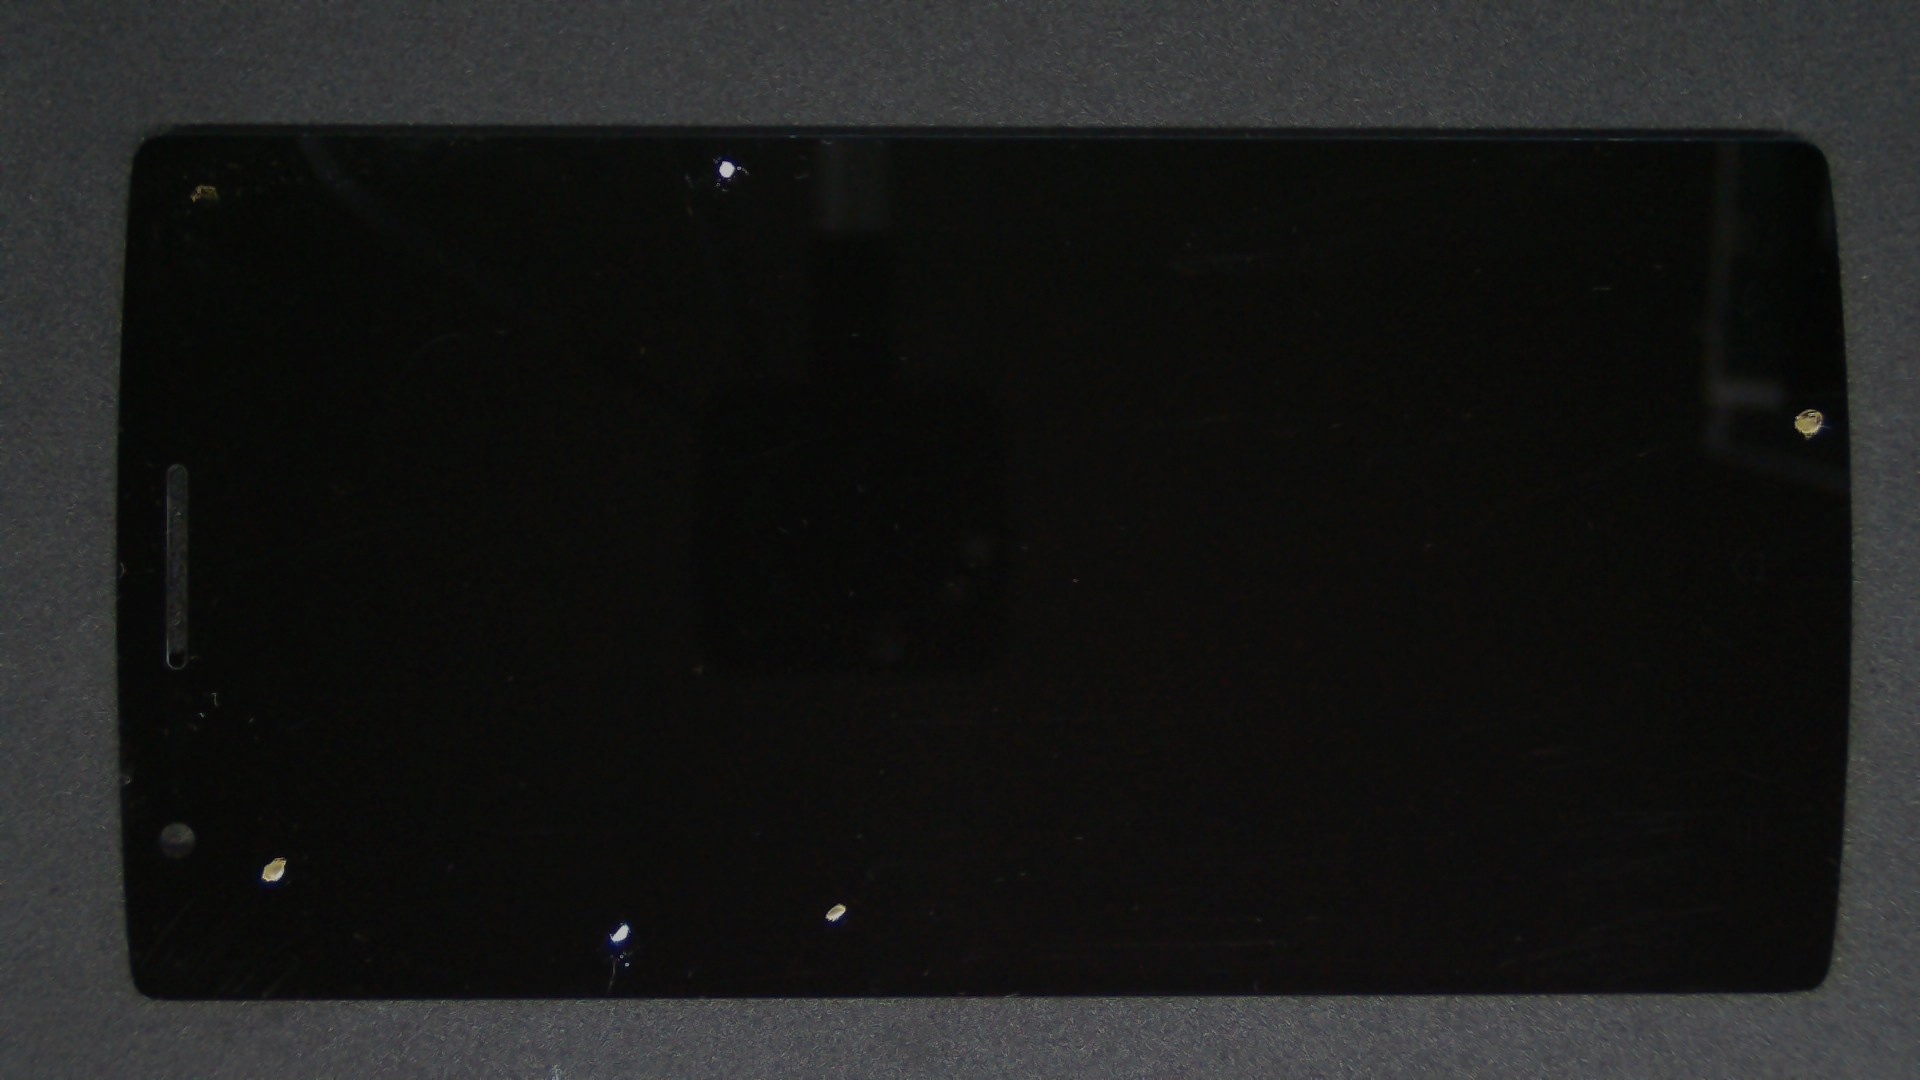oil: (419, 451, 1258, 1080), (905, 203, 1920, 613), (310, 460, 930, 1080), (314, 475, 939, 1080), (314, 480, 939, 1080), (141, 427, 419, 1080), (360, 76, 1075, 235)
